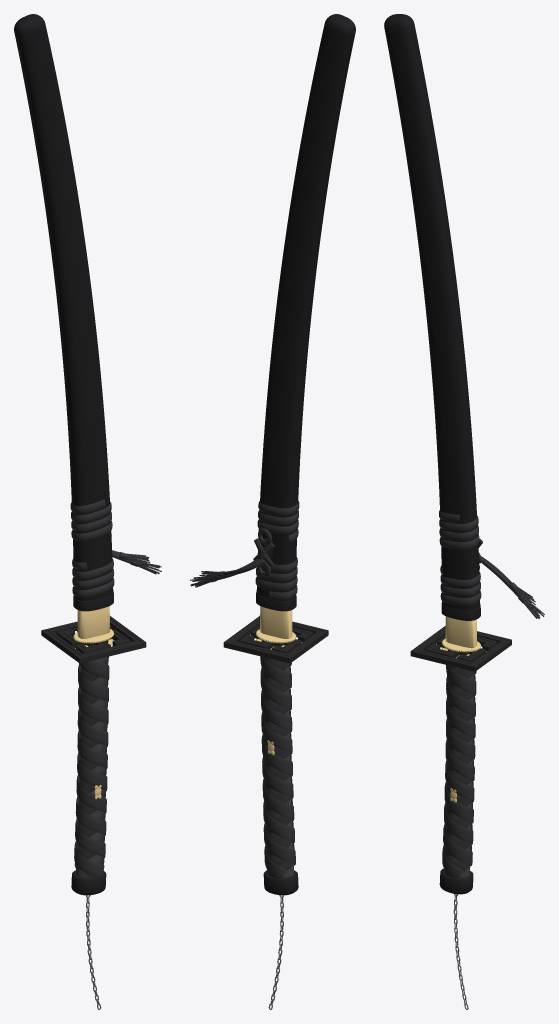
The model's file is katana_dark.opt.glb.
3 renders of one model, left to right at view 1: azimuth 30°, elevation 25°; view 2: azimuth 150°, elevation 25°; view 3: azimuth 330°, elevation 25°, orthographic. The views are drawn at different scales.
Parts seen in each view (by area): view 1: KD_Saya_Body, KD_Tsuka_Ito, KD_Sageo_Wrap, KD_Tsuba, KD_Habaki, KD_Tsuka_Core, KD_Kashira, KD_Sageo_Knot_Tassel, KD_Saya_Koiguchi, KD_Chain; view 2: KD_Saya_Body, KD_Tsuka_Ito, KD_Sageo_Wrap, KD_Tsuba, KD_Sageo_Knot_Tassel, KD_Habaki, KD_Tsuka_Core, KD_Kashira, KD_Saya_Koiguchi, KD_Chain; view 3: KD_Saya_Body, KD_Tsuka_Ito, KD_Sageo_Wrap, KD_Tsuba, KD_Habaki, KD_Tsuka_Core, KD_Sageo_Knot_Tassel, KD_Kashira, KD_Saya_Koiguchi, KD_Chain.
Boxes of the visible parts, x1,y1,x2,y2 form: KD_Saya_Body: [14, 14, 113, 600]; KD_Tsuka_Ito: [74, 656, 109, 878]; KD_Sageo_Wrap: [70, 499, 114, 598]; KD_Tsuba: [41, 616, 146, 663]; KD_Habaki: [77, 606, 109, 638]; KD_Tsuka_Core: [75, 657, 104, 877]; KD_Kashira: [71, 870, 106, 895]; KD_Sageo_Knot_Tassel: [112, 550, 161, 574]; KD_Saya_Koiguchi: [73, 591, 113, 611]; KD_Chain: [86, 897, 101, 1009]; KD_Saya_Body: [256, 14, 355, 600]; KD_Tsuka_Ito: [260, 656, 295, 878]; KD_Sageo_Wrap: [255, 501, 299, 600]; KD_Tsuba: [223, 616, 328, 663]; KD_Sageo_Knot_Tassel: [190, 528, 275, 587]; KD_Habaki: [260, 606, 292, 638]; KD_Tsuka_Core: [264, 657, 294, 877]; KD_Kashira: [263, 870, 298, 895]; KD_Saya_Koiguchi: [256, 592, 296, 611]; KD_Chain: [268, 897, 283, 1009]; KD_Saya_Body: [384, 14, 480, 610]; KD_Tsuka_Ito: [442, 665, 476, 878]; KD_Sageo_Wrap: [439, 510, 481, 605]; KD_Tsuba: [410, 626, 511, 671]; KD_Habaki: [445, 616, 476, 647]; KD_Tsuka_Core: [444, 666, 474, 877]; KD_Sageo_Knot_Tassel: [478, 534, 544, 618]; KD_Kashira: [439, 868, 473, 894]; KD_Saya_Koiguchi: [441, 603, 480, 620]; KD_Chain: [453, 895, 468, 1009].
Size of the model in its own units: 0.1909 by 1.19 by 0.082.
6 materials, 6 textured.
